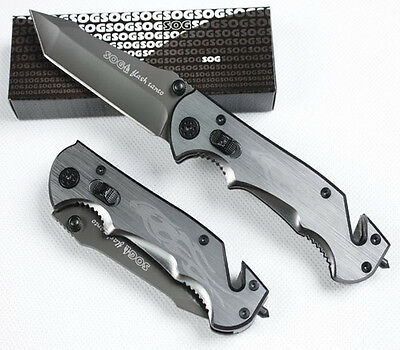knief: (29, 10, 395, 330)
